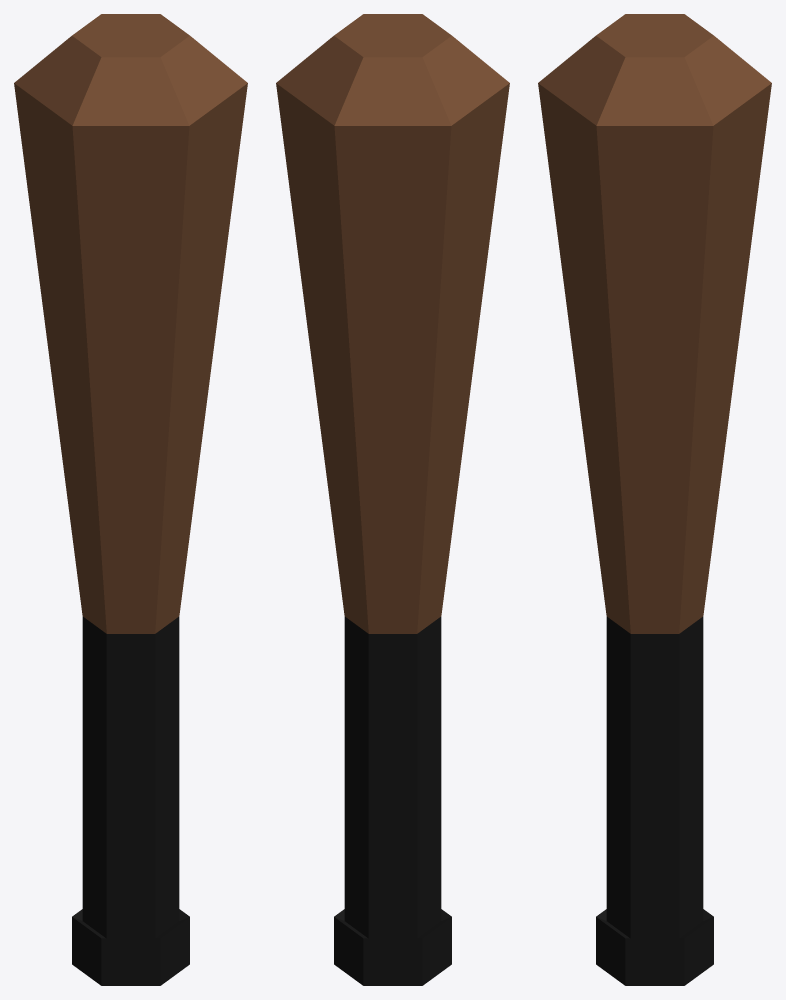
Rendered from bastao.fbx.
3 views of the same model, side by side, from view 1: azimuth 30°, elevation 25°; view 2: azimuth 150°, elevation 25°; view 3: azimuth 270°, elevation 25° (orthographic).
Visible parts, largest first — view 1: bastao; view 2: bastao; view 3: bastao.
Part boxes in pixels (x1,y1,x2,y2): bastao: [14, 14, 247, 985]; bastao: [276, 14, 509, 985]; bastao: [538, 14, 771, 985].
Size of the model in its own units: 73.88 by 374 by 85.31.
